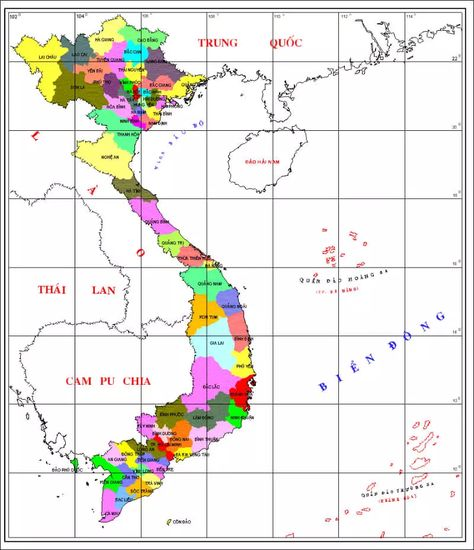Island: (326, 417, 461, 535), (291, 222, 390, 300)
